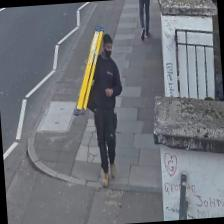person: (84, 32, 128, 188)
